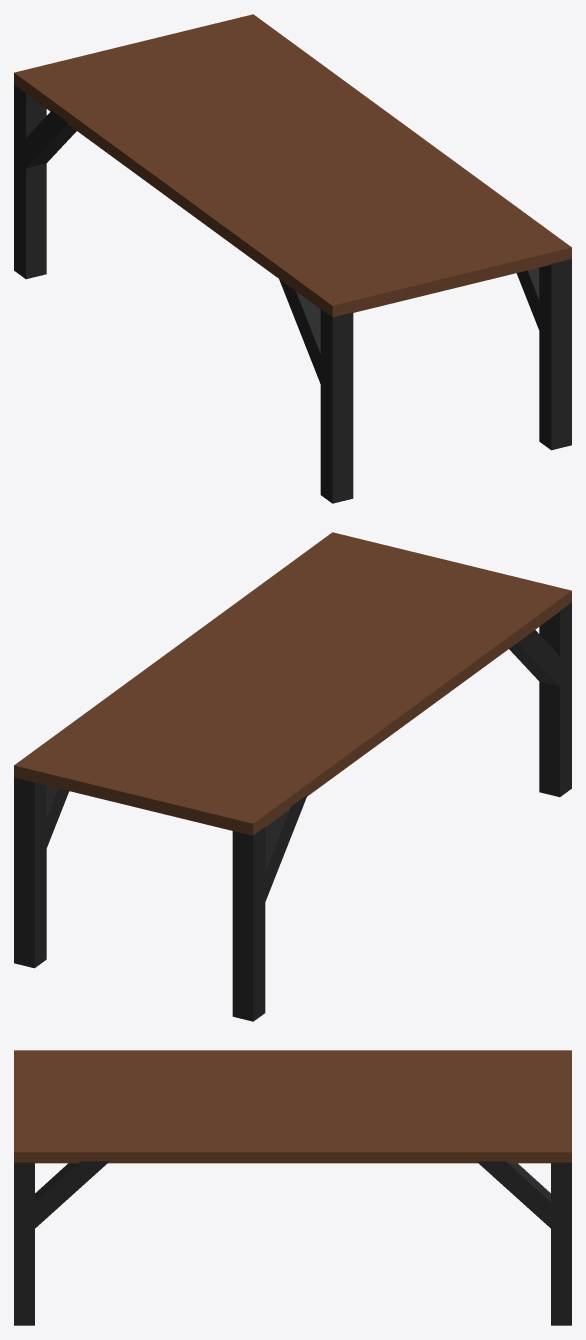
File: GrandeTable_16.fbx
3 views of the same model, one above another, from view 1: azimuth 30°, elevation 25°; view 2: azimuth 150°, elevation 25°; view 3: azimuth 270°, elevation 25° (orthographic). The views are drawn at different scales.
Visible parts, largest first — view 1: pCube54, pCube52, pCube53, pCube50, pCube60, pCube56, pCube55; view 2: pCube54, pCube50, pCube51, pCube52, pCube60, pCube56, pCube59; view 3: pCube54, pCube51, pCube53, pCube55, pCube59.
Part boxes in pixels (x1=…): pCube54: x1=14, y1=14, x2=571, y2=317; pCube52: x1=320, y1=309, x2=353, y2=503; pCube53: x1=539, y1=259, x2=571, y2=450; pCube50: x1=14, y1=84, x2=46, y2=279; pCube60: x1=24, y1=110, x2=76, y2=169; pCube56: x1=279, y1=279, x2=320, y2=383; pCube55: x1=516, y1=267, x2=540, y2=332; pCube54: x1=14, y1=532, x2=571, y2=835; pCube50: x1=232, y1=827, x2=265, y2=1021; pCube51: x1=14, y1=777, x2=46, y2=968; pCube52: x1=539, y1=602, x2=571, y2=797; pCube60: x1=264, y1=794, x2=307, y2=904; pCube56: x1=509, y1=630, x2=559, y2=686; pCube59: x1=45, y1=785, x2=69, y2=851; pCube54: x1=14, y1=1050, x2=571, y2=1163; pCube51: x1=551, y1=1162, x2=571, y2=1325; pCube53: x1=14, y1=1162, x2=34, y2=1325; pCube55: x1=33, y1=1161, x2=109, y2=1229; pCube59: x1=477, y1=1161, x2=550, y2=1228.
Size of the model in its own units: 50.24 by 39.67 by 116.
